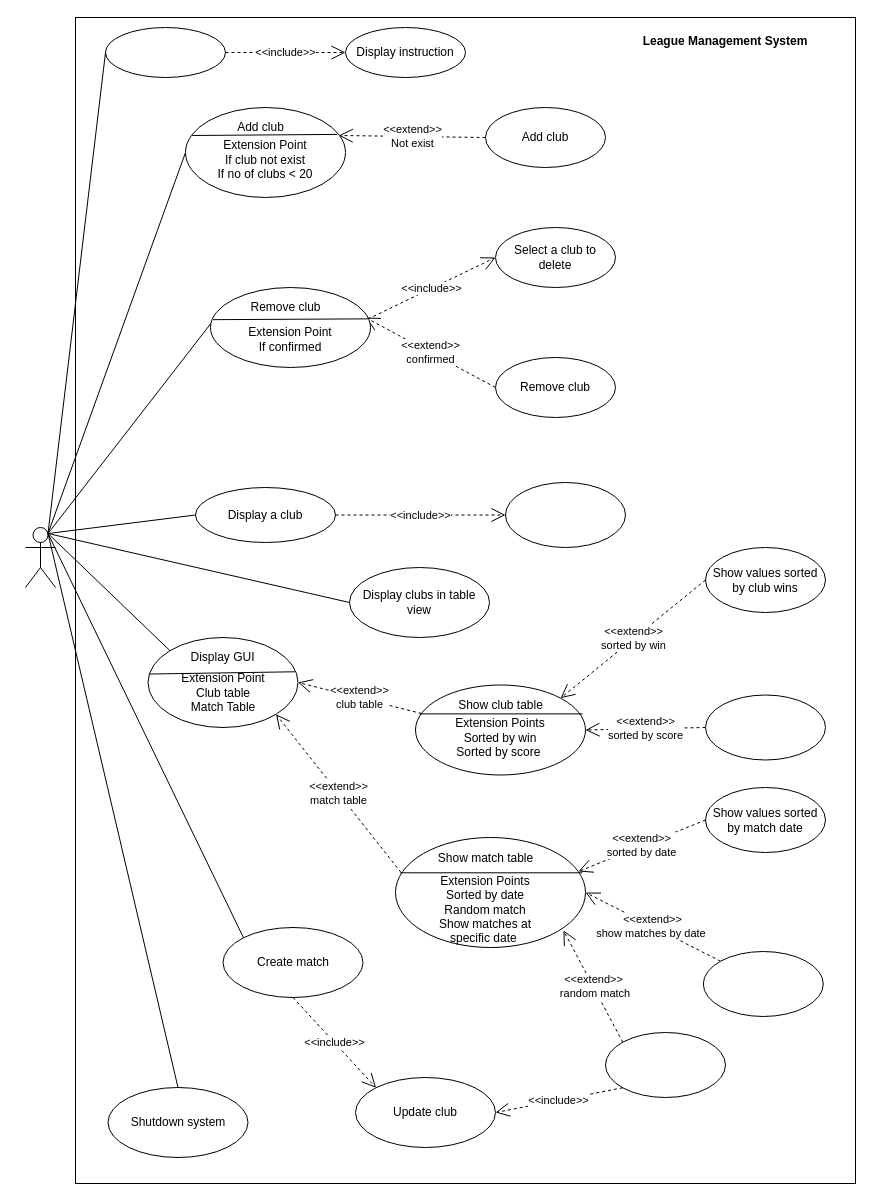
The diagram is 873 pixels wide and 1201 high, and some of its shapes have lost their labels. Each missing label, with the box of its shape:
Create random match: (604, 1032, 726, 1098)
Initialize system: (104, 26, 226, 78)
Manager: (24, 526, 56, 588)
Search matches at specific date: (702, 950, 823, 1016)
Select a club to show: (504, 482, 626, 548)
Show values sort by club points: (704, 694, 826, 760)
